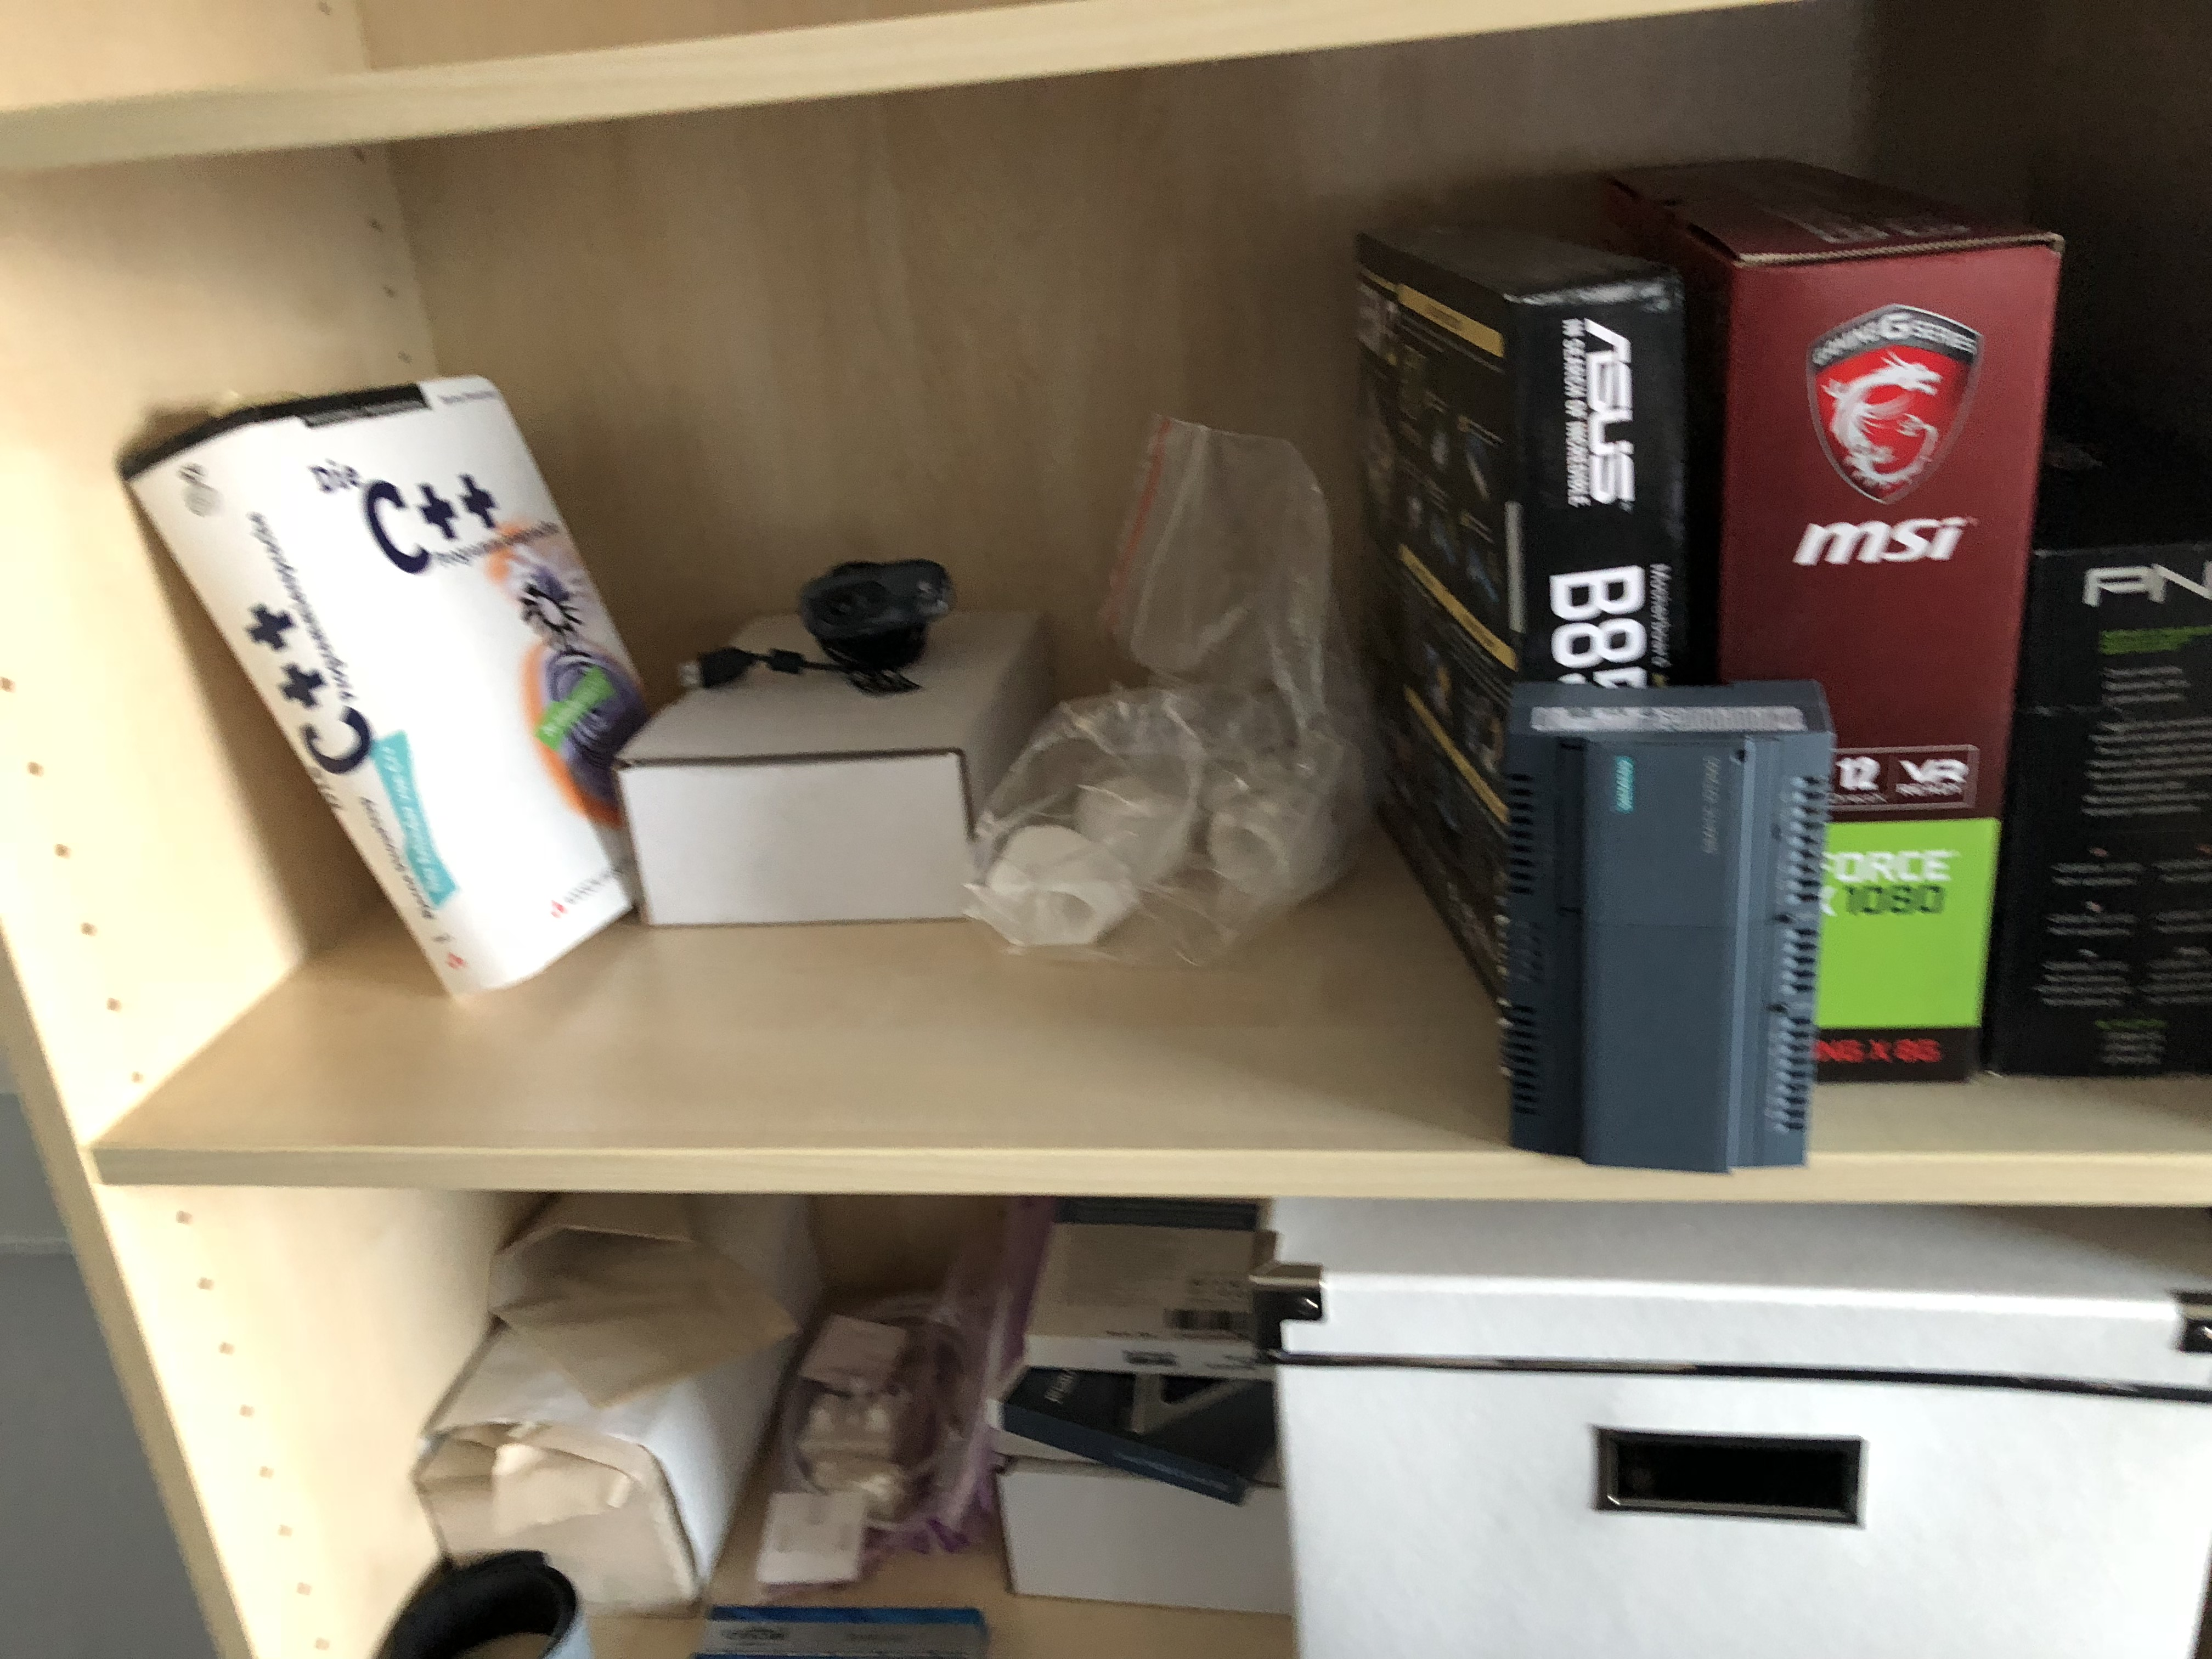device: (1494, 680, 1834, 1178)
